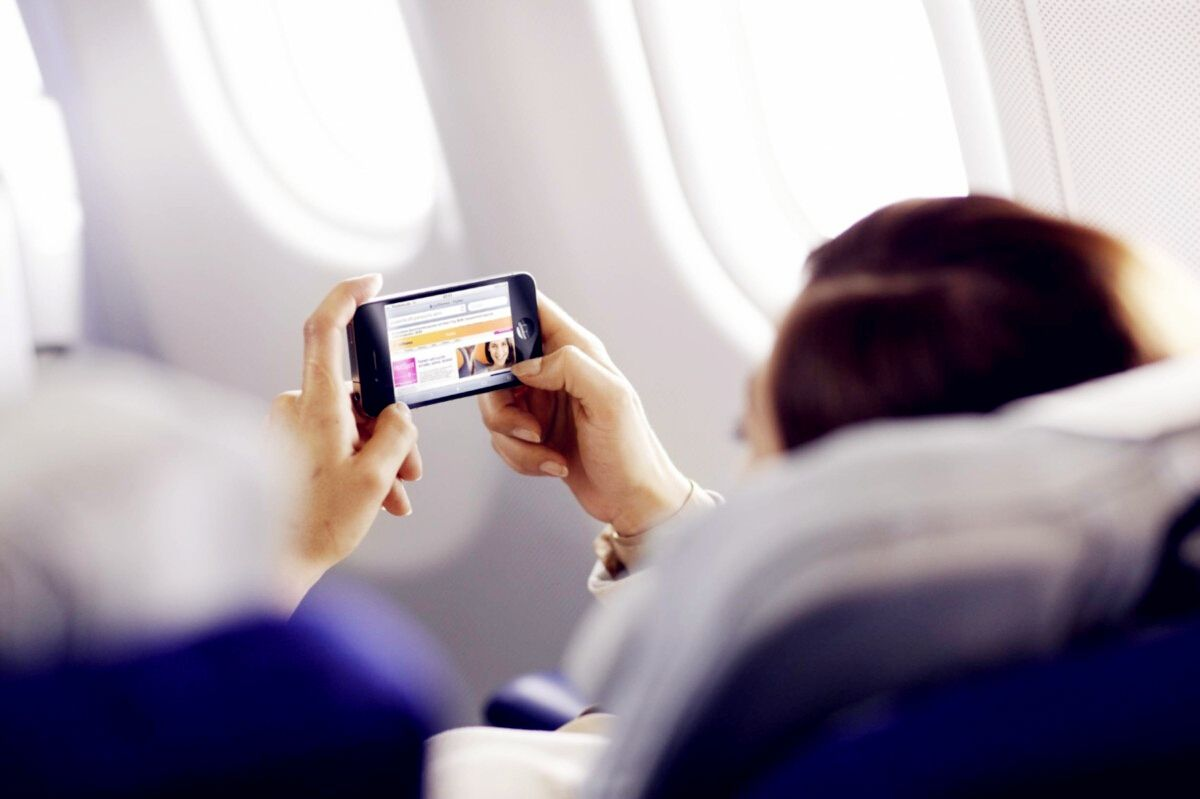reading: (251, 263, 681, 564)
